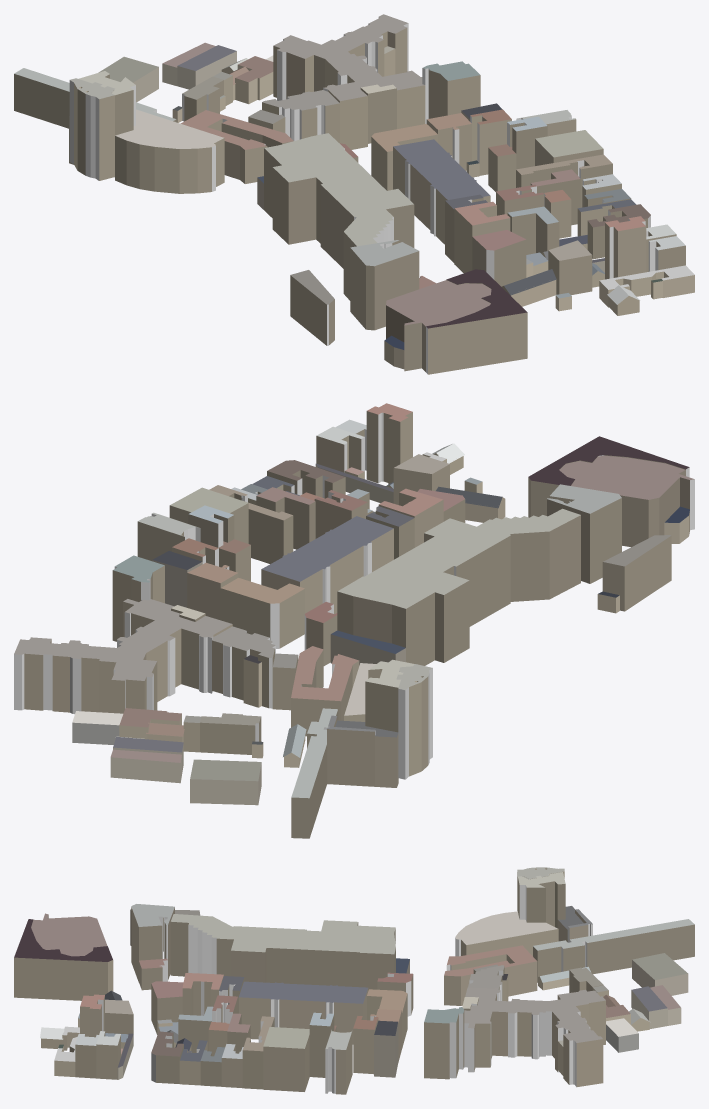
The picture shows the model from 3 angles, top to bottom: view 1: azimuth 30°, elevation 25°; view 2: azimuth 150°, elevation 25°; view 3: azimuth 270°, elevation 25°; orthographic projection. The views are drawn at different scales.
Parts seen in each view (by area): view 1: tuile; view 2: tuile; view 3: tuile.
Boxes of the visible parts, <box> form: tuile: <box>14,14,694,374</box>; tuile: <box>14,403,694,838</box>; tuile: <box>14,867,694,1094</box>.
Bounding box in the file's own units: 152 × 33.86 × 276.
